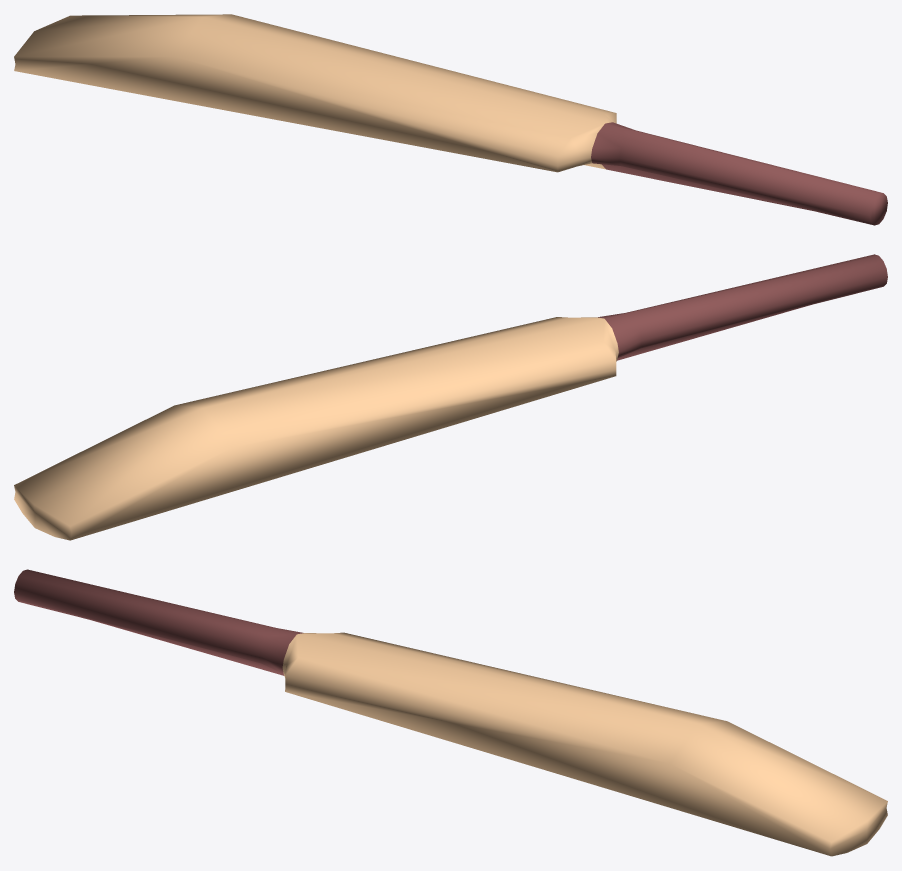
Rendered from Toy152.fbx.
The picture shows the model from 3 angles, top to bottom: view 1: azimuth 90°, elevation 25°; view 2: azimuth 150°, elevation 25°; view 3: azimuth 270°, elevation 25°; orthographic projection.
Parts seen in each view (by area): view 1: Toy152; view 2: Toy152; view 3: Toy152.
Part boxes in pixels (box(x1,y1,x2,y2)): Toy152: box(14, 14, 887, 225); Toy152: box(14, 254, 887, 540); Toy152: box(14, 569, 887, 856).
Bounding box in the file's own units: 0.2098 × 0.0333 × 0.3343.
